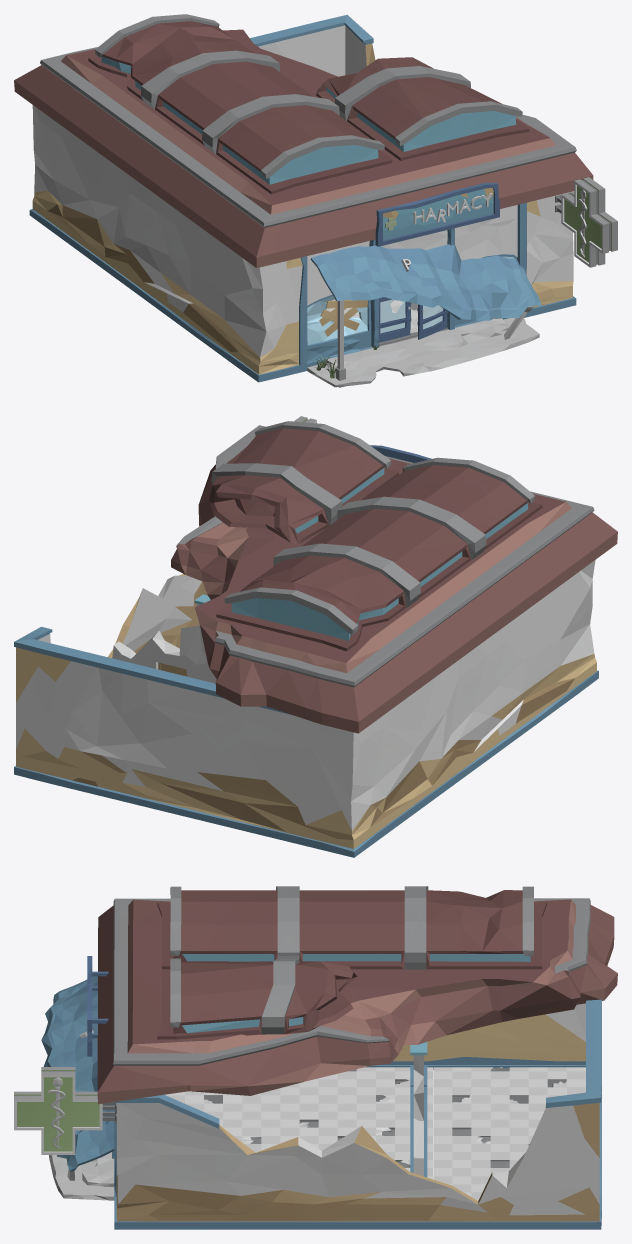
The model's file is pharmacy_building.obj.
3 renders of one model, top to bottom at view 1: azimuth 30°, elevation 25°; view 2: azimuth 150°, elevation 25°; view 3: azimuth 270°, elevation 25°, orthographic. The views are drawn at different scales.
Visible parts, largest first — view 1: main_building_walls_Material, roof_Material, skylight_Material, small_roof_Material, sign_Material, logo_Material, window_glass_Material, main_door_left_Material, boards_1_Material, main_door_right_Material, pharmacy_sign_Material; view 2: main_building_walls_Material, skylight_Material, roof_Material, wall_inside_Material; view 3: main_building_walls_Material, roof_Material, skylight_Material, floor_tiles_Material, small_roof_Material, logo_Material, wall_inside_Material, sign_Material.
Boxes of the visible parts, x1,y1,x2,y2 form: main_building_walls_Material: (29, 14, 576, 387); roof_Material: (14, 29, 593, 267); skylight_Material: (88, 14, 529, 194); small_roof_Material: (310, 244, 541, 387); sign_Material: (375, 182, 499, 246); logo_Material: (555, 177, 617, 267); window_glass_Material: (307, 256, 514, 344); main_door_left_Material: (378, 297, 411, 342); boards_1_Material: (319, 299, 367, 336); main_door_right_Material: (417, 304, 447, 339); pharmacy_sign_Material: (401, 193, 492, 271); main_building_walls_Material: (14, 560, 598, 857); skylight_Material: (208, 421, 542, 651); roof_Material: (171, 425, 617, 733); wall_inside_Material: (112, 594, 216, 683); main_building_walls_Material: (49, 999, 601, 1229); roof_Material: (97, 898, 617, 1104); skylight_Material: (157, 886, 546, 1039); floor_tiles_Material: (164, 1067, 585, 1200); small_roof_Material: (41, 976, 114, 1180); logo_Material: (14, 1067, 116, 1154); wall_inside_Material: (410, 1042, 427, 1177); sign_Material: (87, 956, 108, 1056).
Bounding box in the file's own units: 9.55 × 5.53 × 13.9.
